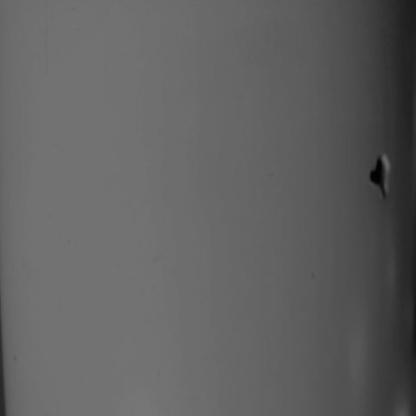kongdong: (353, 150, 410, 207)
